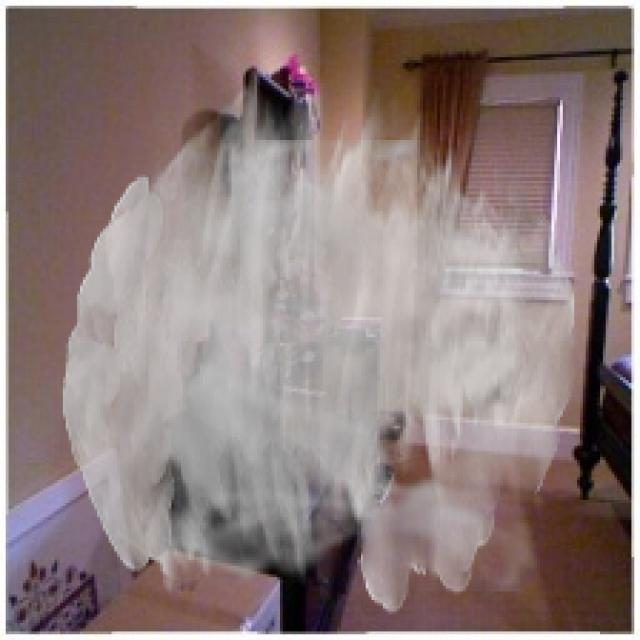Smoke: (62, 77, 578, 614)
